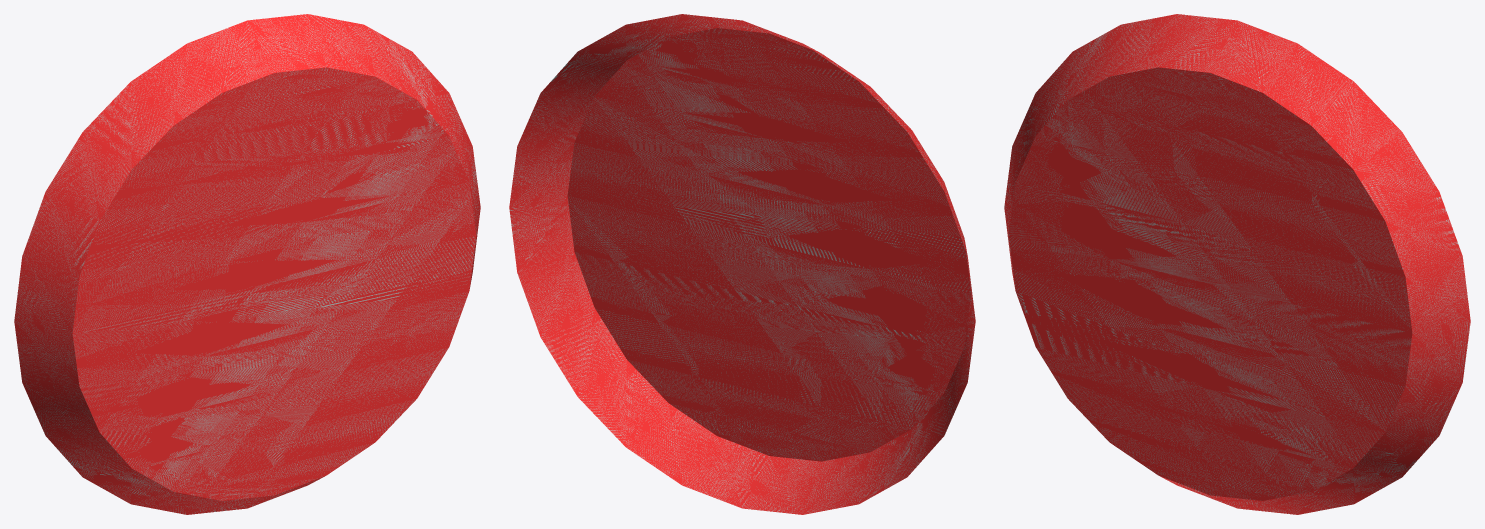
Rendered from original-1.obj.
The picture shows the model from 3 angles, left to right: view 1: azimuth 30°, elevation 25°; view 2: azimuth 150°, elevation 25°; view 3: azimuth 330°, elevation 25°; orthographic projection.
Parts seen in each view (by area): view 1: 3dw.7bdffa69c49eb1d7bf653fdedcac4c5b#4/Model/mesh9/mesh9-geometr; view 2: 3dw.7bdffa69c49eb1d7bf653fdedcac4c5b#4/Model/mesh9/mesh9-geometr; view 3: 3dw.7bdffa69c49eb1d7bf653fdedcac4c5b#4/Model/mesh9/mesh9-geometr.
Boxes of the visible parts, left/top/right/bottom form: 3dw.7bdffa69c49eb1d7bf653fdedcac4c5b#4/Model/mesh9/mesh9-geometr: left=14, top=14, right=480, bottom=514; 3dw.7bdffa69c49eb1d7bf653fdedcac4c5b#4/Model/mesh9/mesh9-geometr: left=509, top=14, right=975, bottom=514; 3dw.7bdffa69c49eb1d7bf653fdedcac4c5b#4/Model/mesh9/mesh9-geometr: left=1004, top=14, right=1470, bottom=514.
Size of the model in its own units: 0.1304 by 0.1304 by 0.013.
